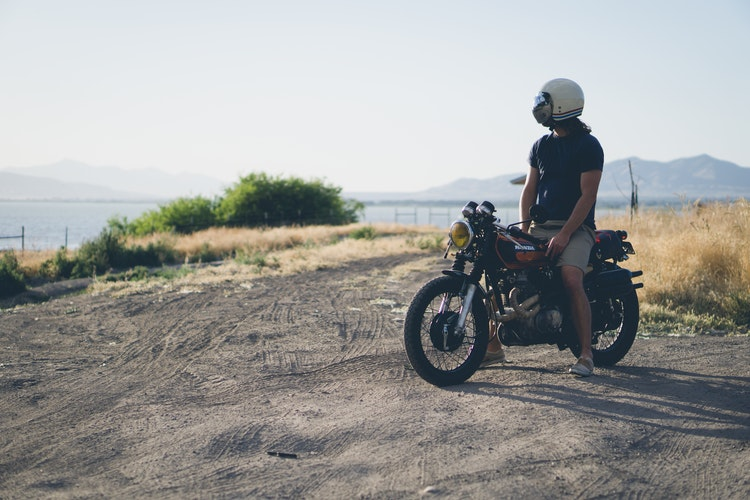helmet: (530, 74, 591, 126)
